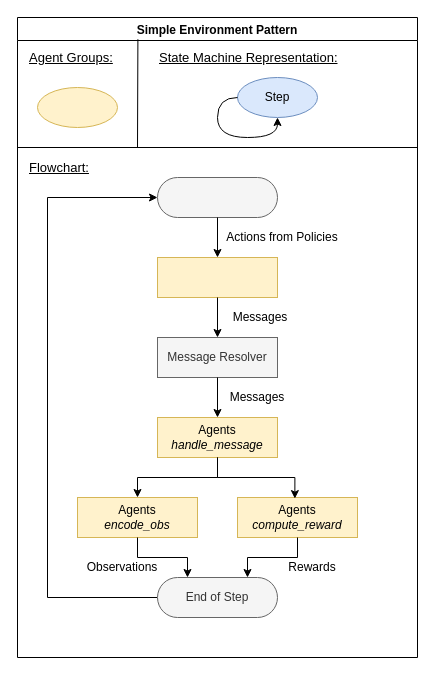
Image size: 436x675. Some labels were removed from this diagram. The centre of each missing label's shape, as x and y in pixels:
Agents: (x=77, y=107)
Agents decode_action: (x=217, y=277)
Start of Step: (x=217, y=197)
